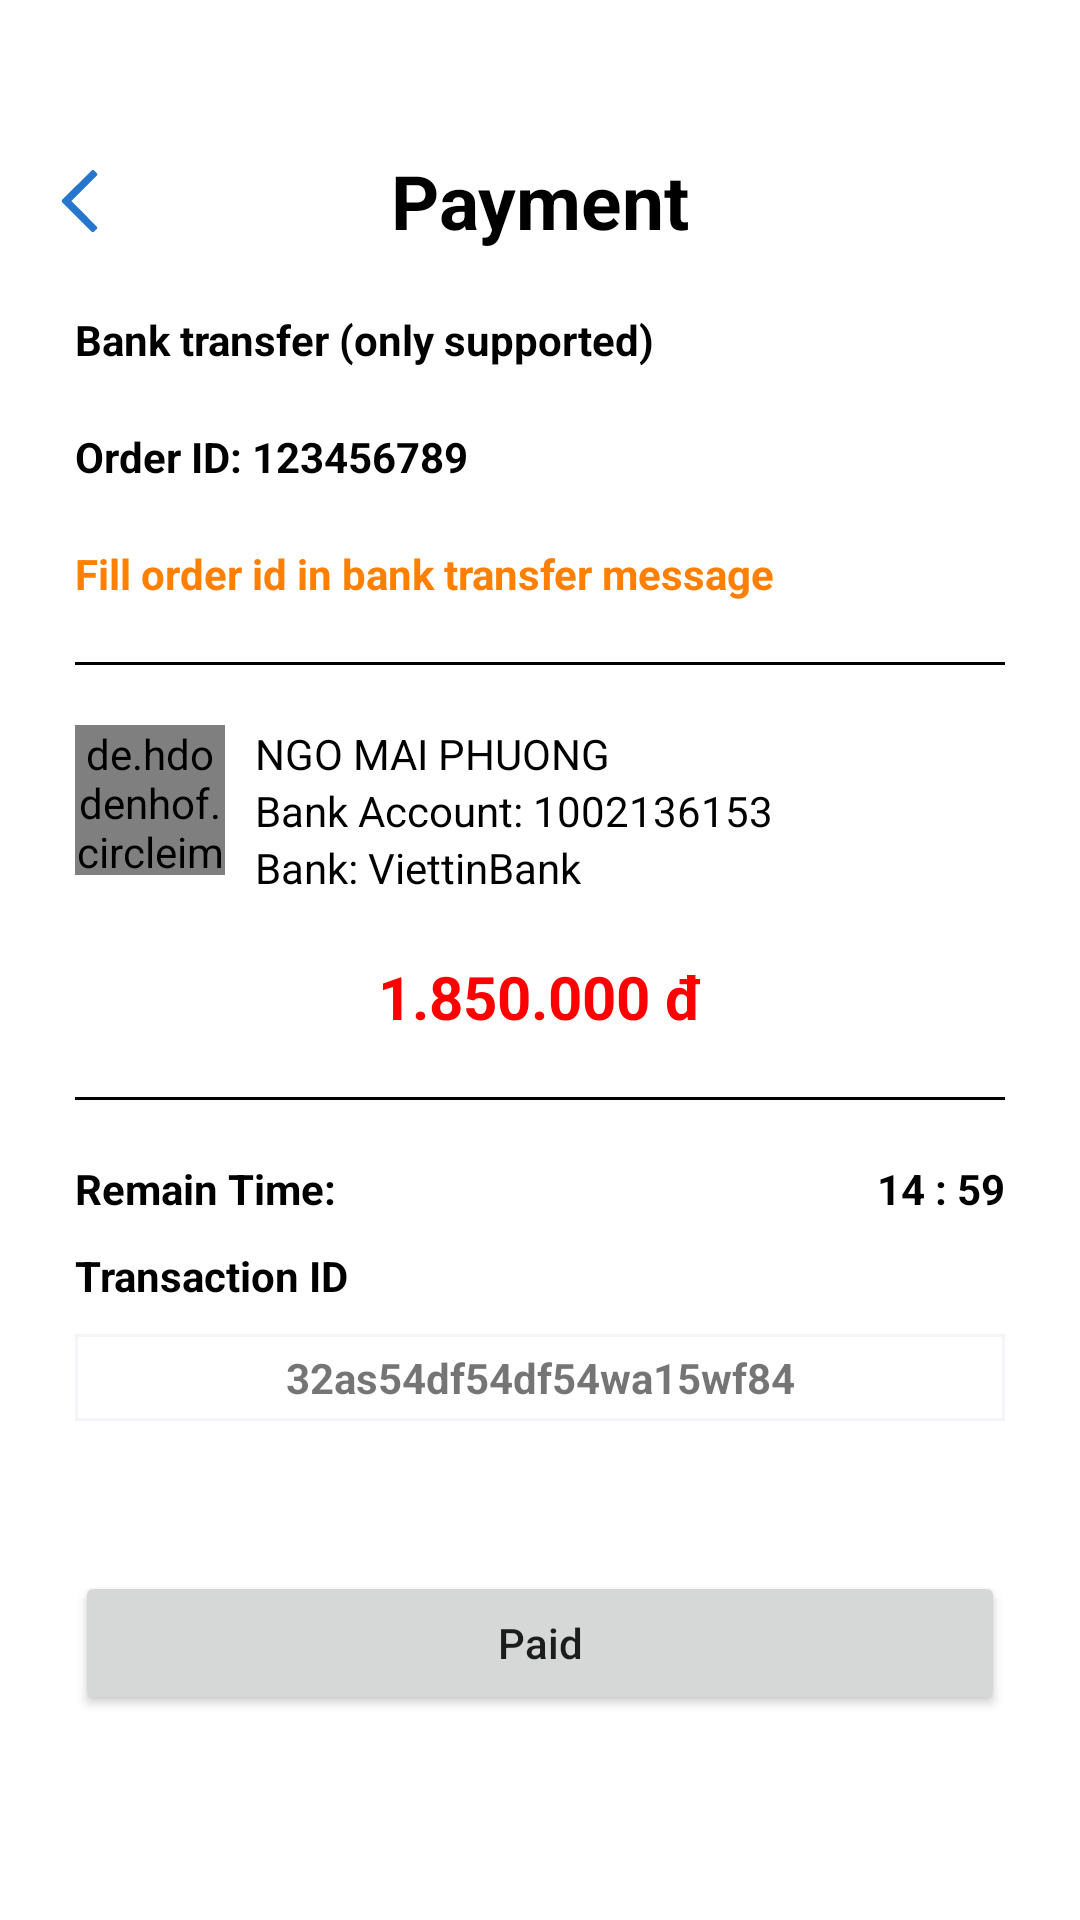

Named icons in this screenshot (1080px×1920px) and their centers, [x,y]:
back: [79,201]
